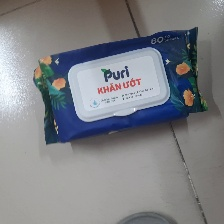Puri Xanh: (33, 27, 210, 146)
